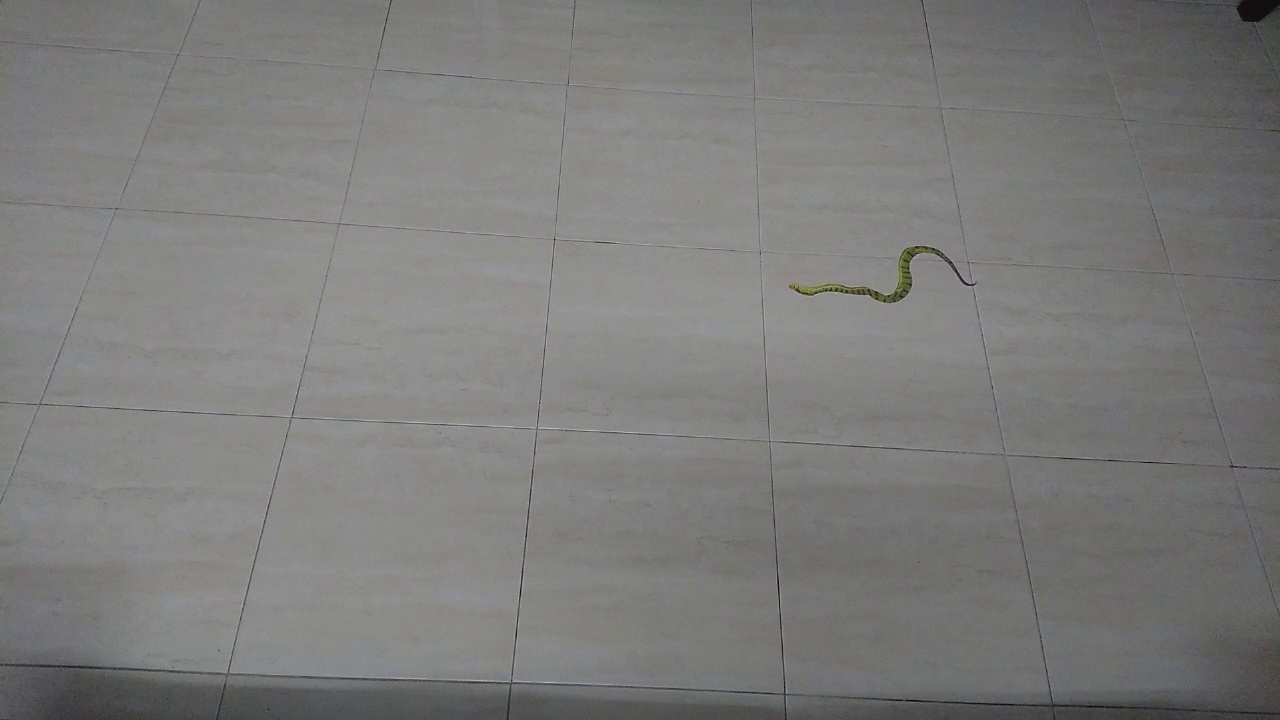snake: (769, 228, 990, 319)
